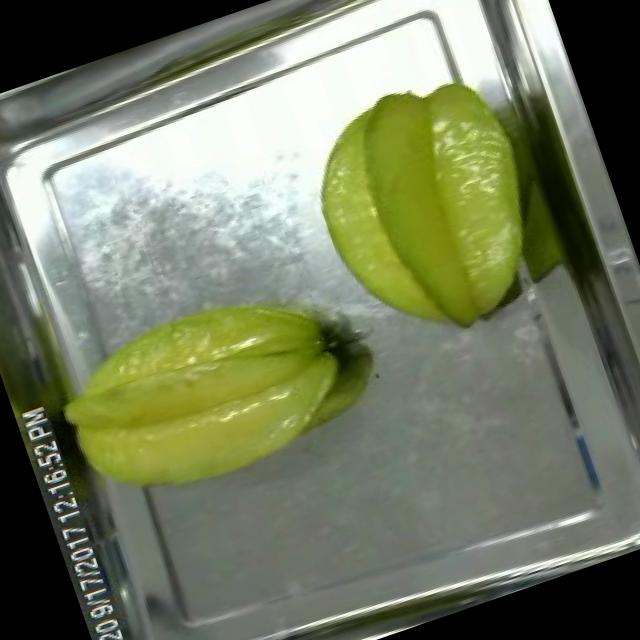fruit: (36, 257, 382, 534), (280, 49, 576, 372)
